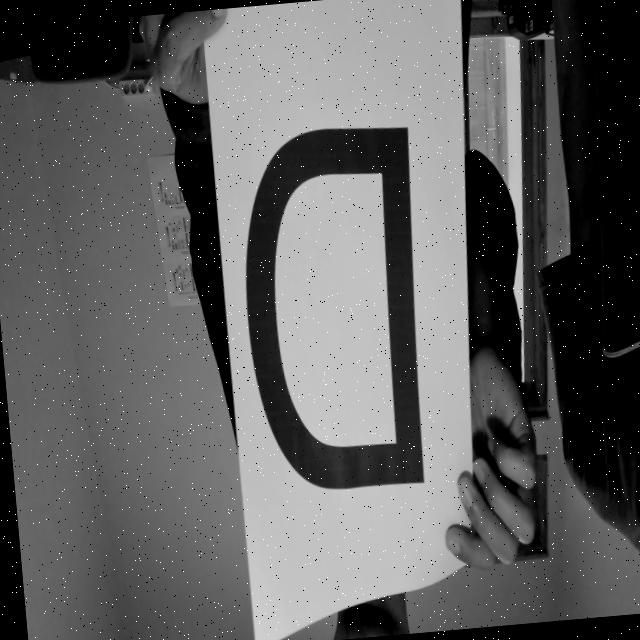d: (228, 108, 446, 530)
